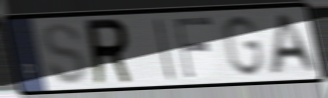A: (267, 12, 321, 77)
F: (173, 15, 215, 81)
G: (220, 13, 267, 79)
I: (153, 16, 177, 83)
R: (83, 16, 137, 88)
S: (42, 21, 90, 87)
